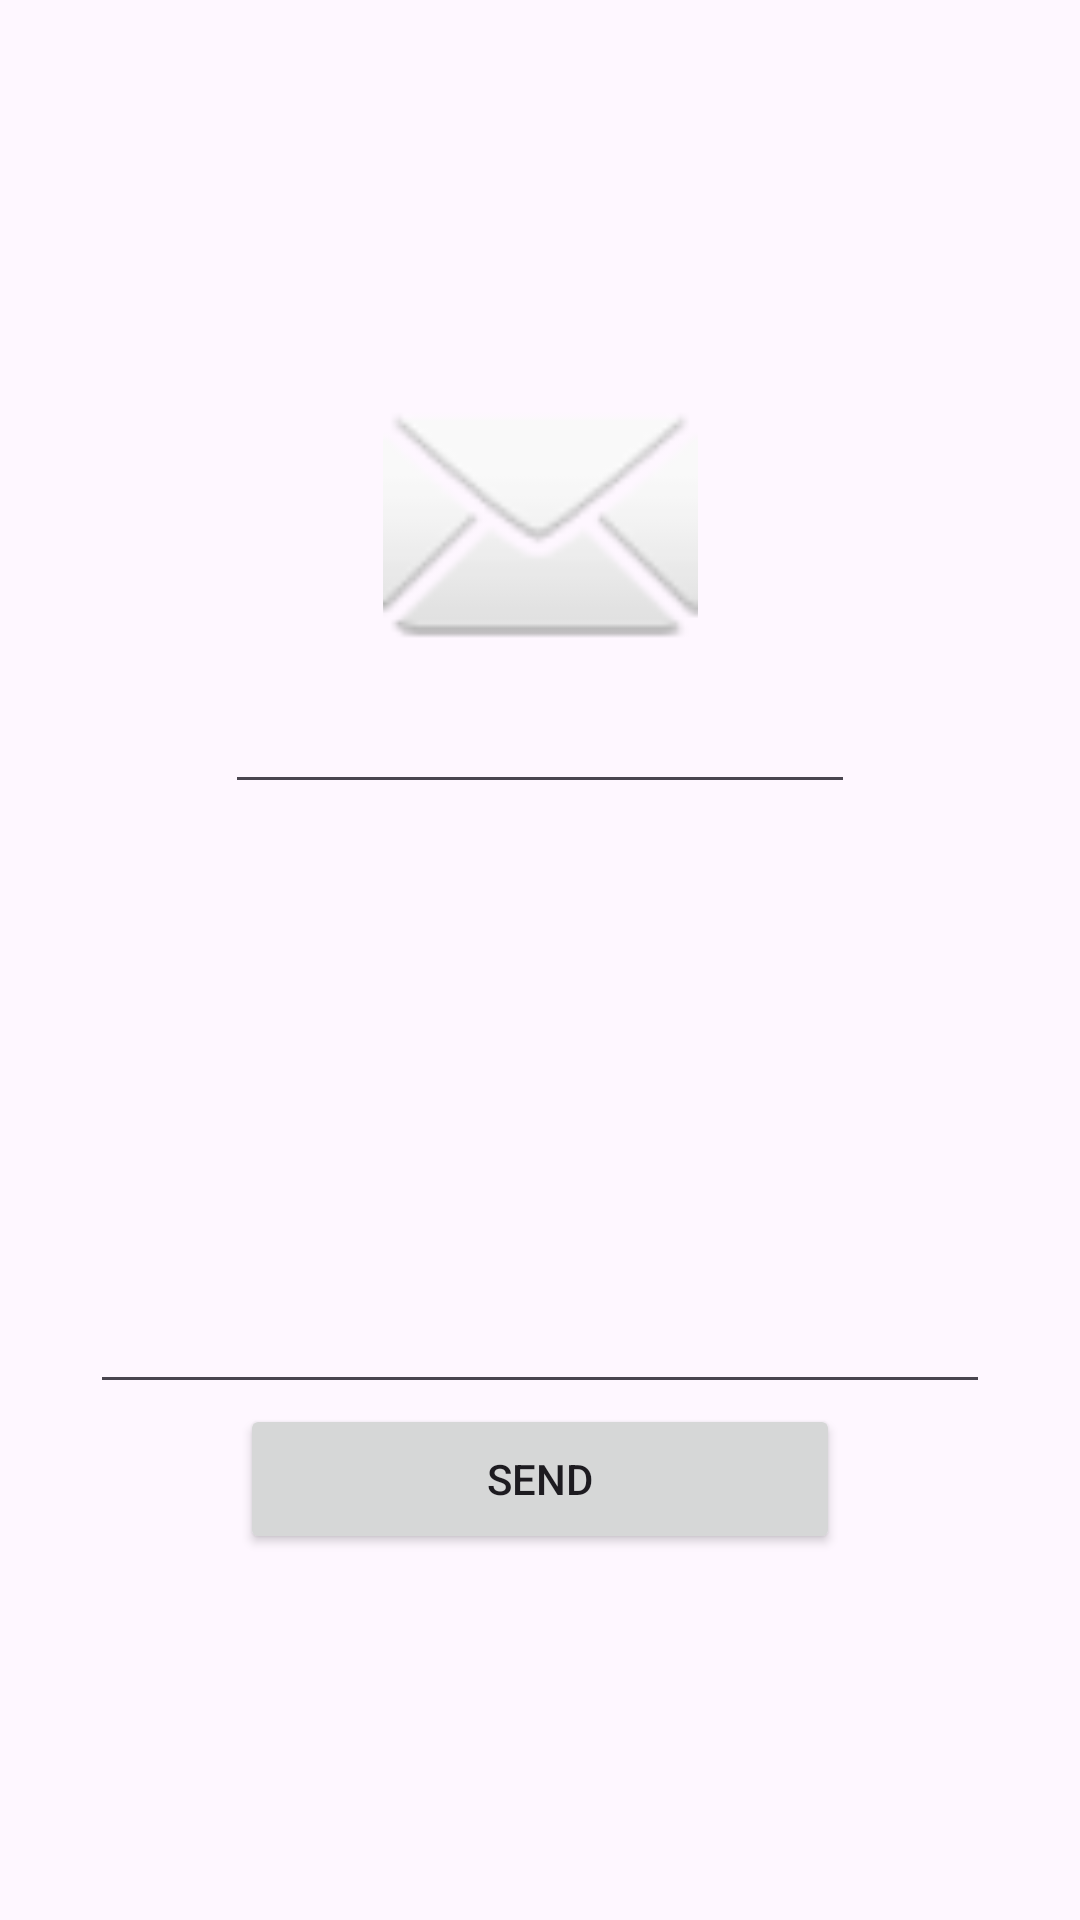

Named icons in this screenshot (1080w x 1920h) and their centers, (x=x, y=y):
email: (x=540, y=528)
